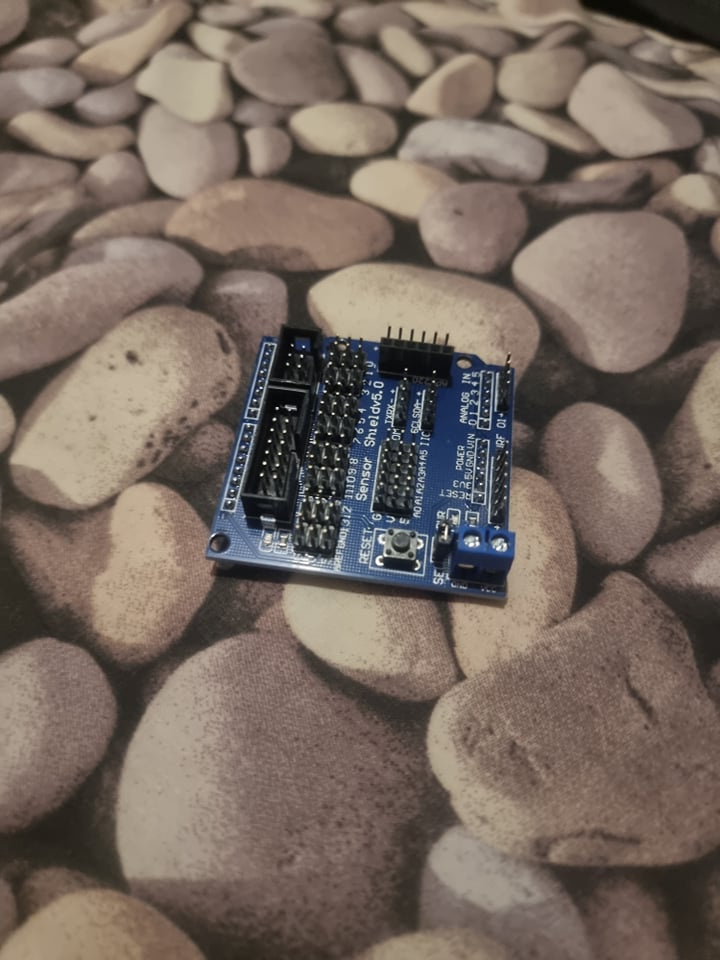5V EXPANSION: (204, 319, 519, 610)
